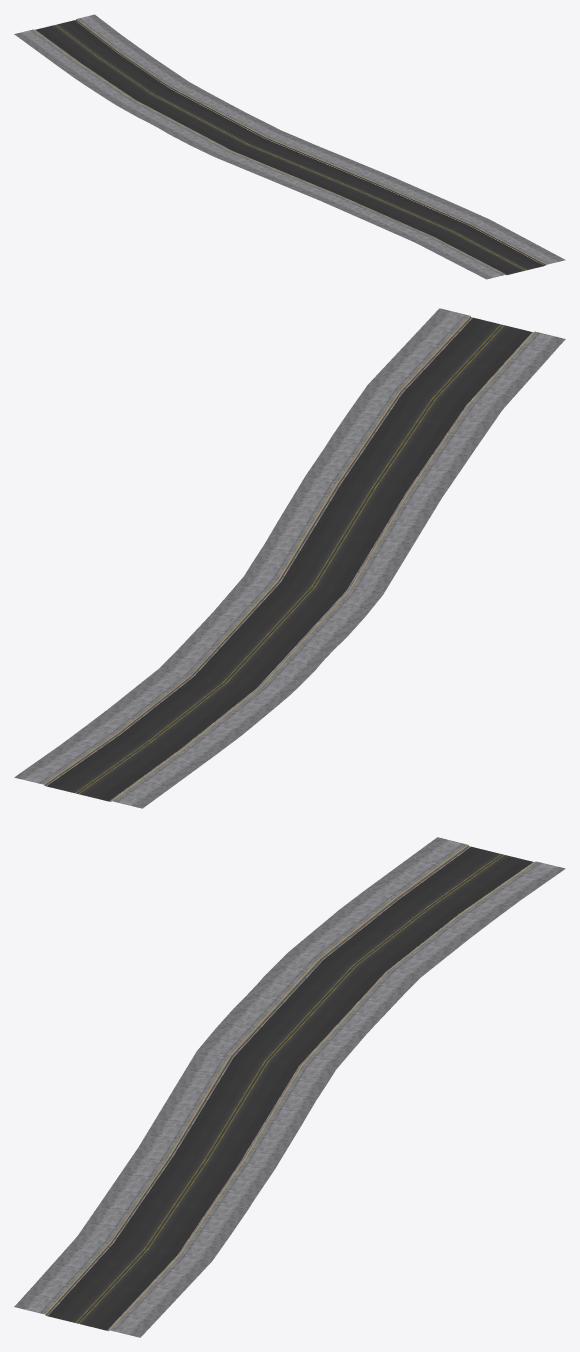
The model's file is lawroads_law05.obj.
The picture shows the model from 3 angles, top to bottom: view 1: azimuth 30°, elevation 25°; view 2: azimuth 150°, elevation 25°; view 3: azimuth 330°, elevation 25°; orthographic projection. The views are drawn at different scales.
Parts seen in each view (by area): view 1: lawroads_law05; view 2: lawroads_law05; view 3: lawroads_law05.
Part boxes in pixels (box(x1,y1,x2,y2)): lawroads_law05: box(14, 14, 565, 279); lawroads_law05: box(14, 308, 565, 808); lawroads_law05: box(14, 837, 565, 1337).
Bounding box in the file's own units: 45.87 × 0.192 × 161.
